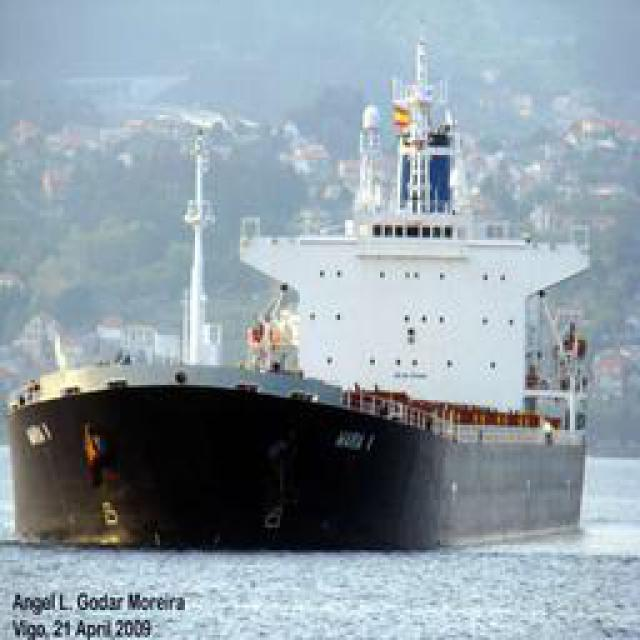Ship: (5, 44, 595, 459)
